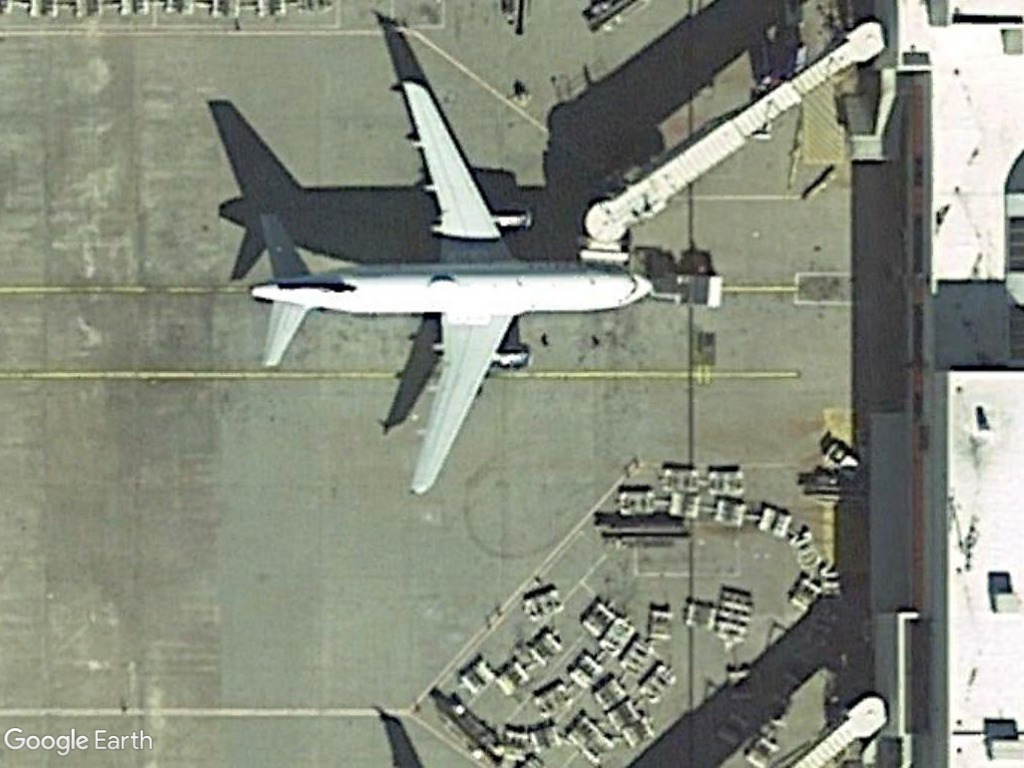airliner: (247, 79, 648, 507)
